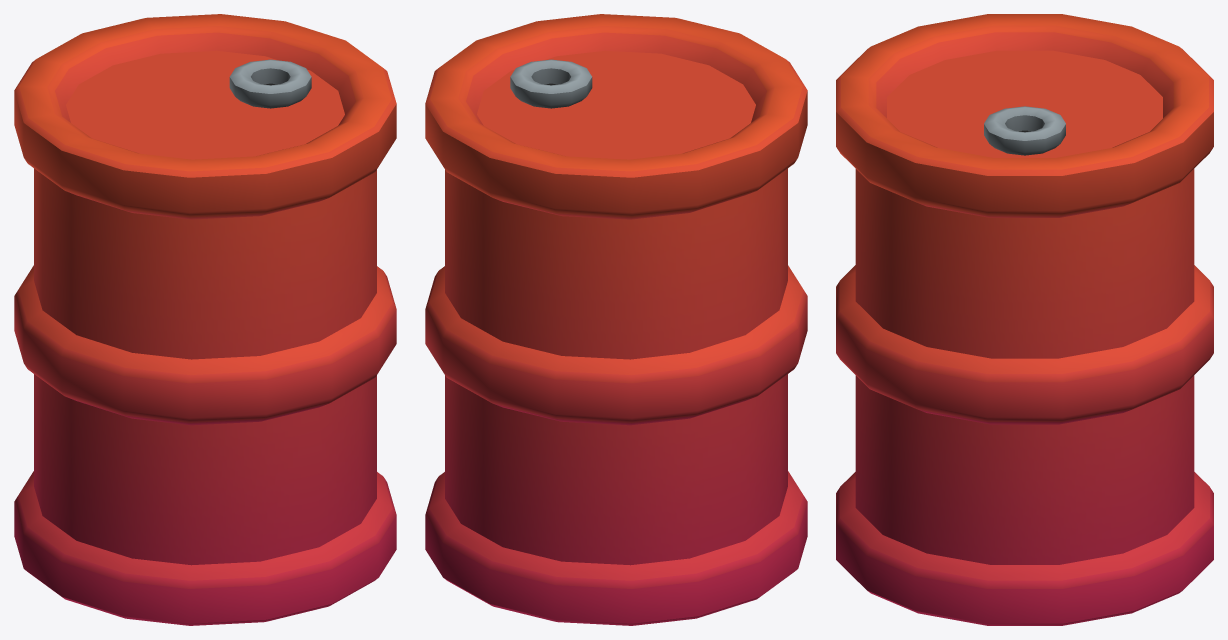
File: tonneau.glb
3 views of the same model, side by side, from view 1: azimuth 30°, elevation 25°; view 2: azimuth 150°, elevation 25°; view 3: azimuth 270°, elevation 25° (orthographic).
Visible parts, largest first — view 1: Fuel_A_Barrel; view 2: Fuel_A_Barrel; view 3: Fuel_A_Barrel.
Part boxes in pixels (<box>): Fuel_A_Barrel: <box>14,14,396,625</box>; Fuel_A_Barrel: <box>425,14,807,625</box>; Fuel_A_Barrel: <box>836,14,1213,625</box>.
Bounding box in the file's own units: 0.75 × 1.01 × 0.75.
1 material, 1 textured.
